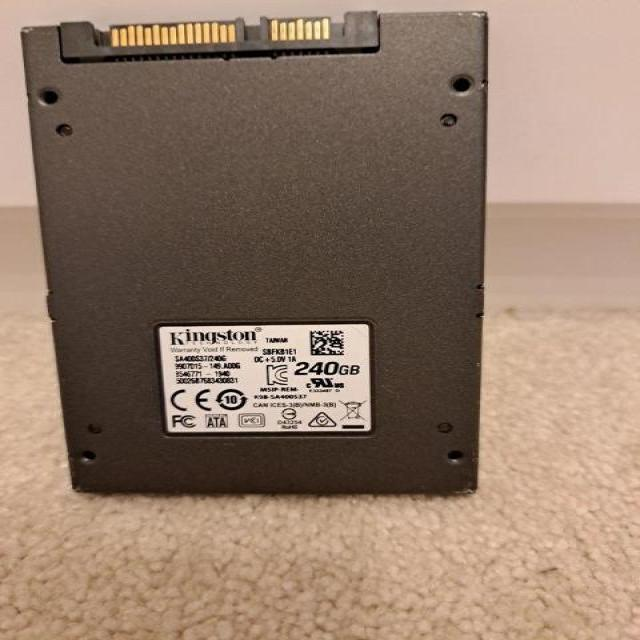DISK: (19, 10, 489, 498)
